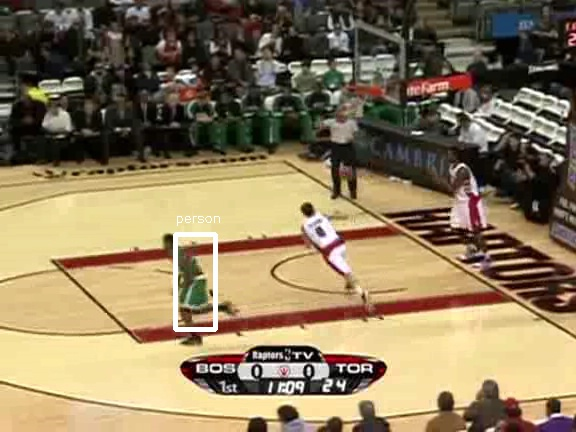person: (176, 239, 210, 320), (175, 239, 209, 320), (177, 239, 211, 320), (176, 238, 210, 319), (176, 240, 210, 321)
target_negative: (15, 118, 552, 330), (400, 34, 562, 393), (487, 158, 573, 267), (455, 255, 532, 339), (309, 389, 320, 402), (481, 294, 484, 328)
